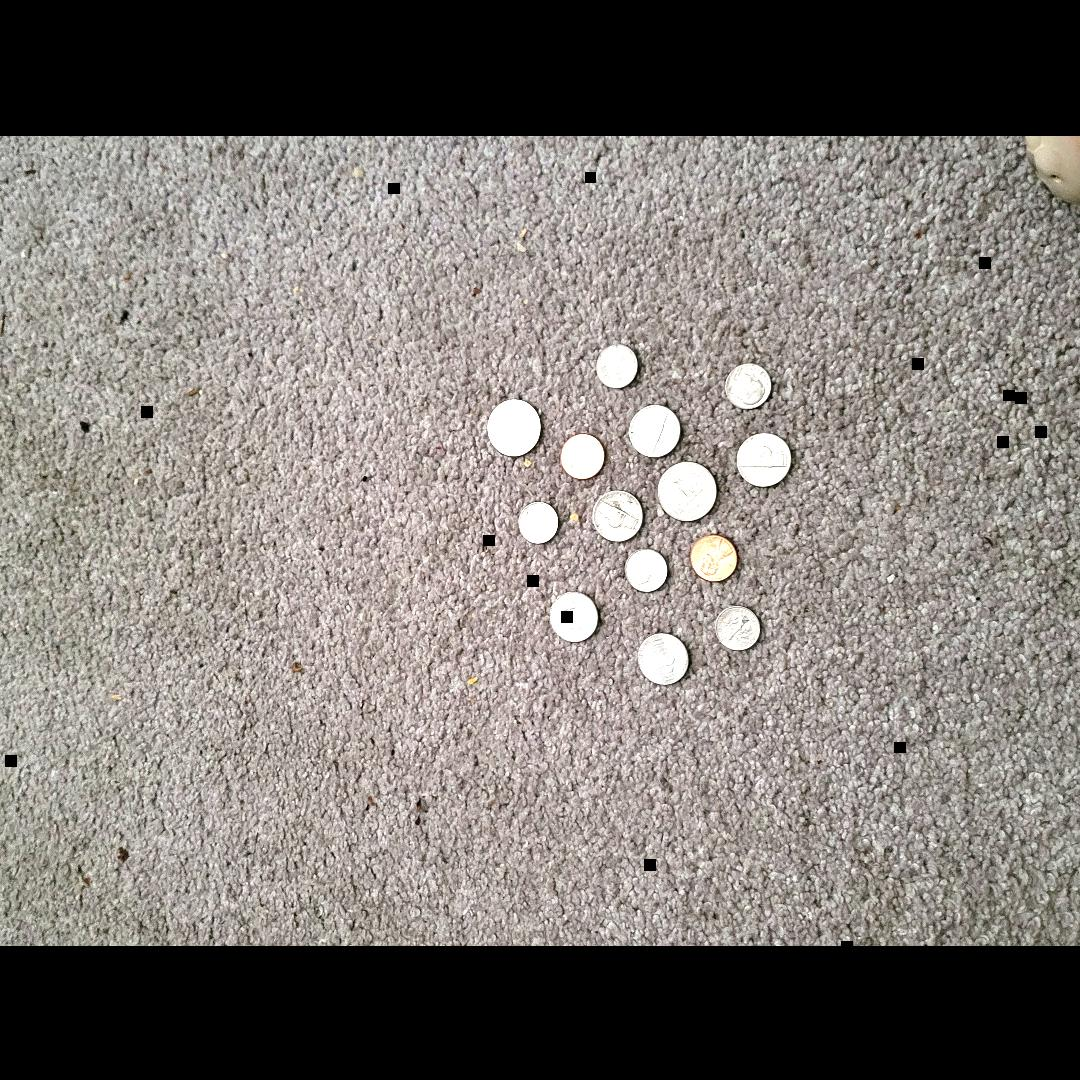Dime: (725, 362, 772, 408), (716, 605, 760, 649), (625, 547, 667, 590), (597, 343, 638, 387), (518, 501, 558, 542)
Nickel: (737, 432, 790, 486), (629, 404, 680, 456), (638, 632, 688, 684), (593, 490, 643, 541), (550, 591, 598, 641)
Penny: (691, 534, 736, 580), (561, 433, 605, 478)
Quarter: (658, 461, 717, 520), (488, 399, 541, 455)
